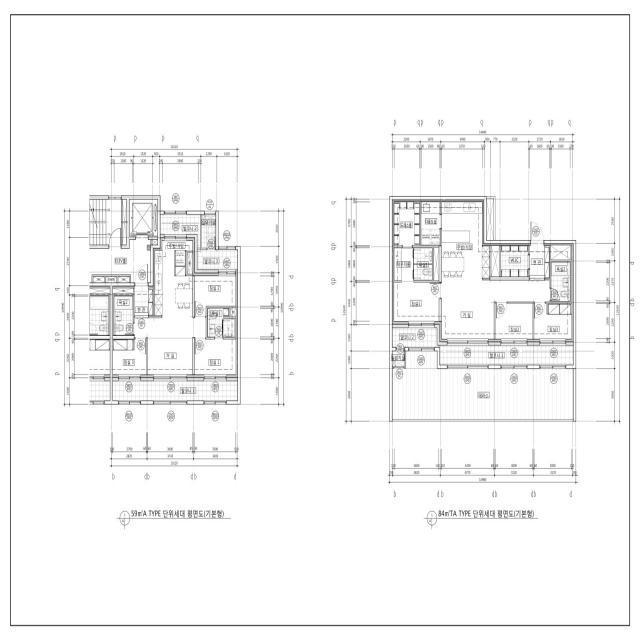space_balconi: (392, 328, 573, 365), (113, 381, 238, 401), (160, 215, 200, 248), (197, 250, 238, 270)
space_bedroom: (392, 282, 440, 324), (195, 270, 238, 316), (195, 339, 238, 378), (534, 303, 573, 342), (495, 303, 533, 342), (113, 339, 146, 377)
space_dressroom: (392, 200, 419, 246), (392, 246, 414, 281)
space_elevator: (130, 199, 158, 236)
space_elevator_hall: (89, 236, 151, 283)
space_front: (529, 244, 550, 280), (134, 286, 153, 316)
space_kitchen: (442, 200, 490, 281), (153, 238, 195, 318)
space_living_room: (440, 280, 550, 342), (134, 318, 206, 378)
space_multipurpose_space: (421, 200, 440, 245)
space_other: (501, 244, 528, 277), (486, 198, 494, 240), (551, 244, 570, 260), (491, 244, 499, 277), (122, 200, 127, 245), (187, 253, 195, 274), (434, 248, 439, 281), (113, 286, 133, 294), (93, 277, 104, 283), (118, 277, 129, 283), (231, 308, 238, 316), (106, 277, 117, 282), (152, 240, 158, 245)
space_outdoor_room: (202, 215, 216, 248), (392, 351, 405, 367)
space_staircase: (90, 199, 121, 245)
space_toilet: (207, 308, 235, 337), (114, 296, 133, 336), (551, 262, 570, 301), (414, 248, 432, 280)
